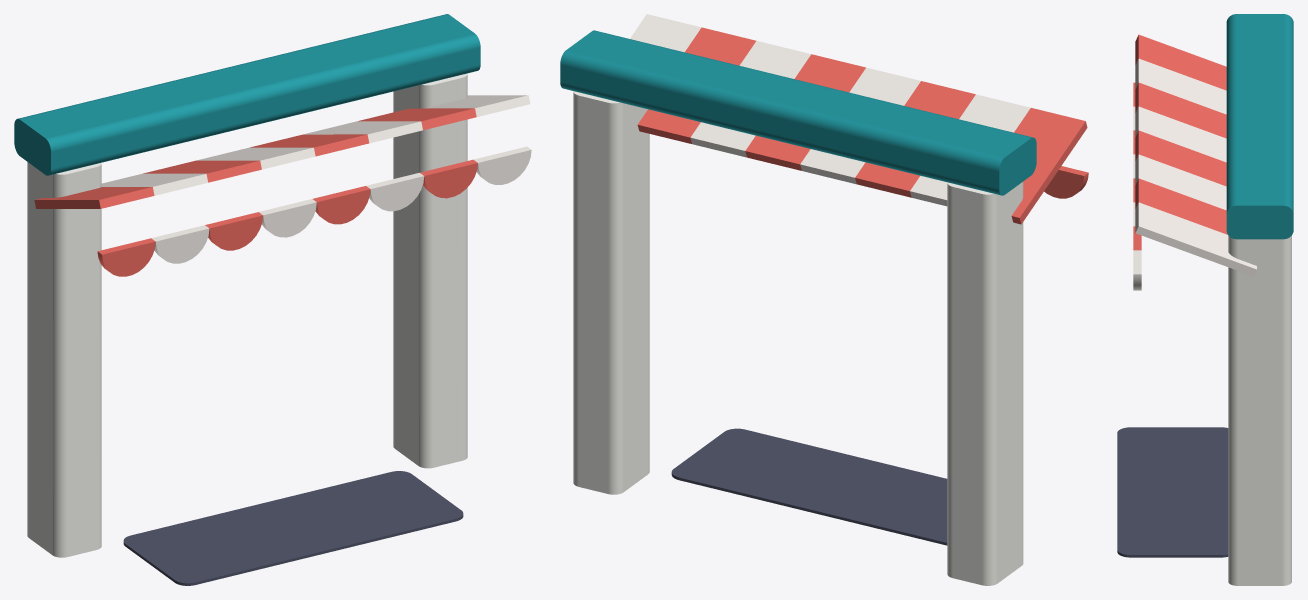
File: Entrance.glb
The picture shows the model from 3 angles, left to right: view 1: azimuth 30°, elevation 25°; view 2: azimuth 150°, elevation 25°; view 3: azimuth 270°, elevation 25°; orthographic projection. The views are drawn at different scales.
Parts seen in each view (by area): view 1: wallTrim (×2), counterFront, screenDark, awningRed (×4), awningWhite (×4); view 2: wallTrim (×2), counterFront, screenDark, awningRed (×4), awningWhite (×4); view 3: wallTrim, counterFront, screenDark, awningWhite (×4), awningRed (×4).
Boxes of the visible parts, x1,y1,x2,y2 form: wallTrim (×2): (27, 73, 467, 557); counterFront: (14, 14, 480, 175); screenDark: (123, 471, 463, 585); awningRed (×4): (34, 108, 477, 276); awningWhite (×4): (101, 95, 531, 263); wallTrim (×2): (573, 91, 1023, 585); counterFront: (560, 30, 1036, 195); screenDark: (671, 428, 947, 545); awningRed (×4): (637, 27, 1088, 224); awningWhite (×4): (630, 14, 1030, 206); wallTrim: (1228, 235, 1291, 585); counterFront: (1226, 14, 1293, 239); screenDark: (1117, 427, 1228, 557); awningWhite (×4): (1133, 58, 1256, 290); awningRed (×4): (1133, 34, 1227, 250).
Size of the model in its own units: 2.7 by 2.52 by 1.05.
